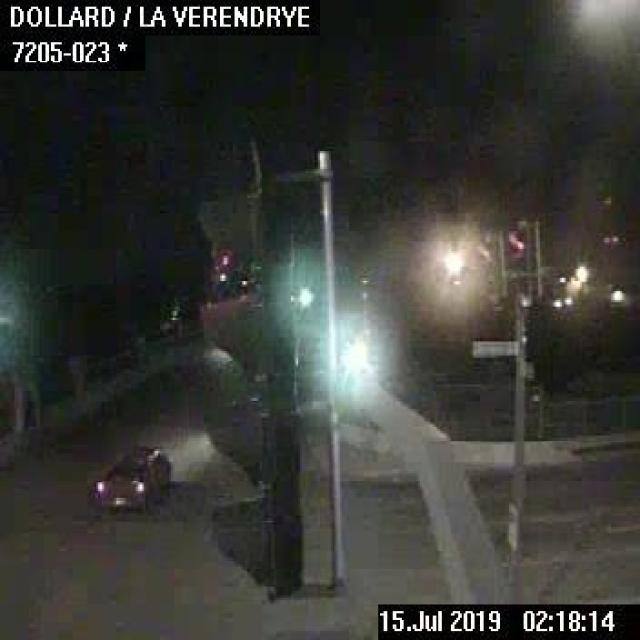vehicle: (93, 442, 171, 507)
